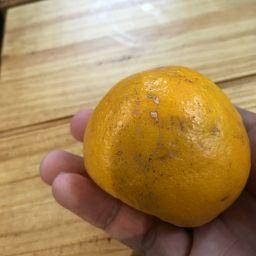Ripe: (83, 66, 250, 230)
